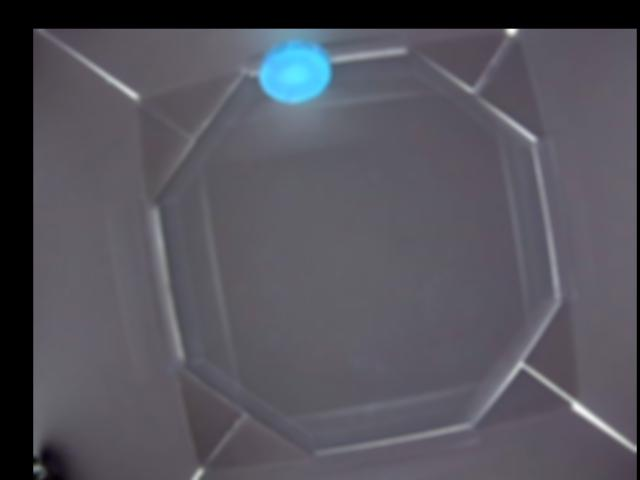Carrot: (257, 40, 332, 102)
